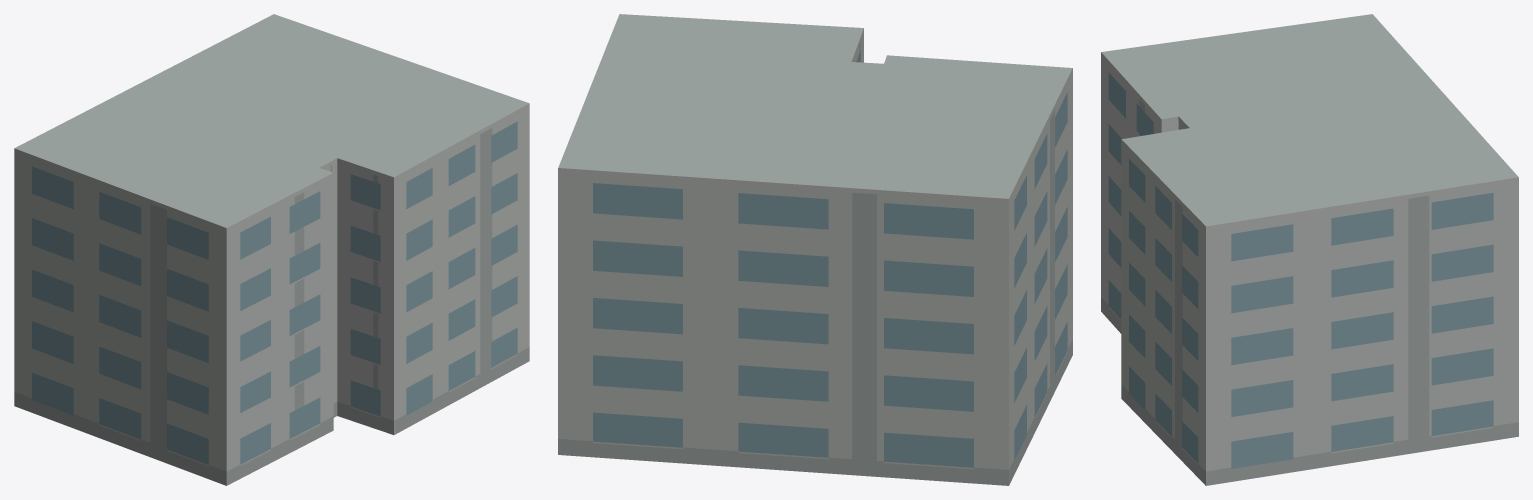
File: survey-upis-32834167.glb
3 views of the same model, side by side, from view 1: azimuth 30°, elevation 25°; view 2: azimuth 150°, elevation 25°; view 3: azimuth 270°, elevation 25° (orthographic). The views are drawn at different scales.
Visible parts, largest first — view 1: survey-upis-32834167.tmp; view 2: survey-upis-32834167.tmp; view 3: survey-upis-32834167.tmp.
Part boxes in pixels (x1,y1,x2,y2): survey-upis-32834167.tmp: (14,14,529,485); survey-upis-32834167.tmp: (558,14,1072,485); survey-upis-32834167.tmp: (1101,14,1518,485).
Bounding box in the file's own units: 26.79 × 15.25 × 22.26.
